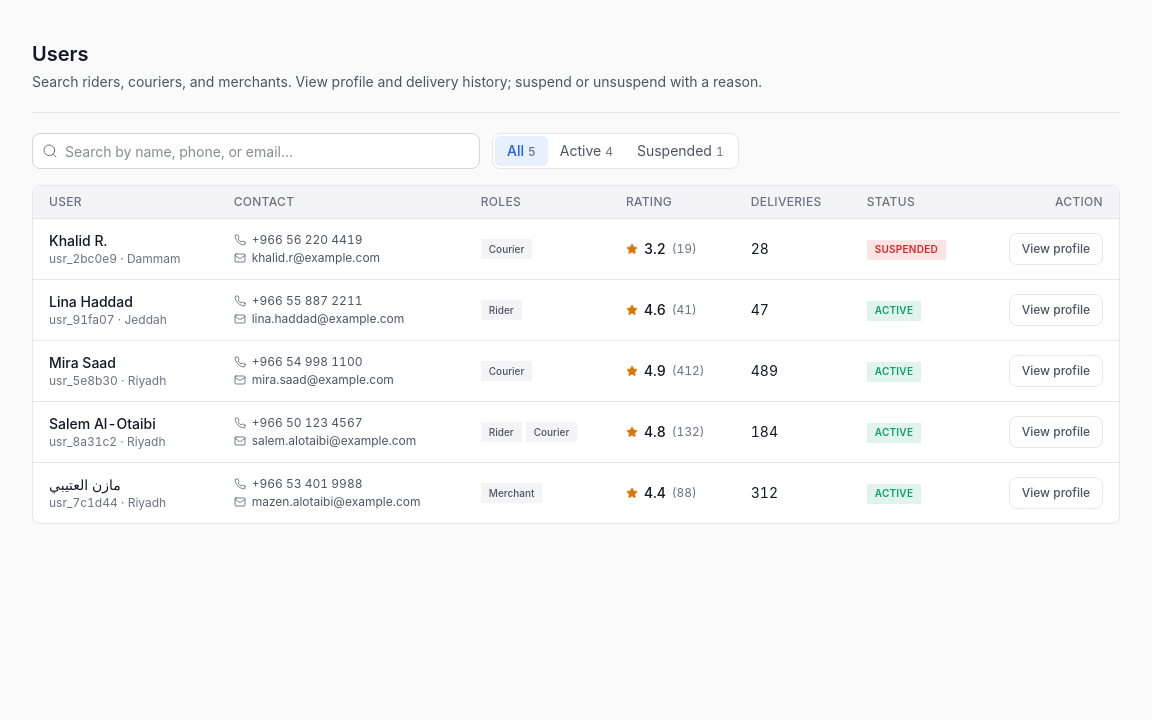
Scenario: <UsersAdminPage /> › opens the profile drawer with delivery history
Click the button named "view profile for salem al-otaibi" at [1056, 432], box top-left (1009, 416), bottom-right (1103, 448)
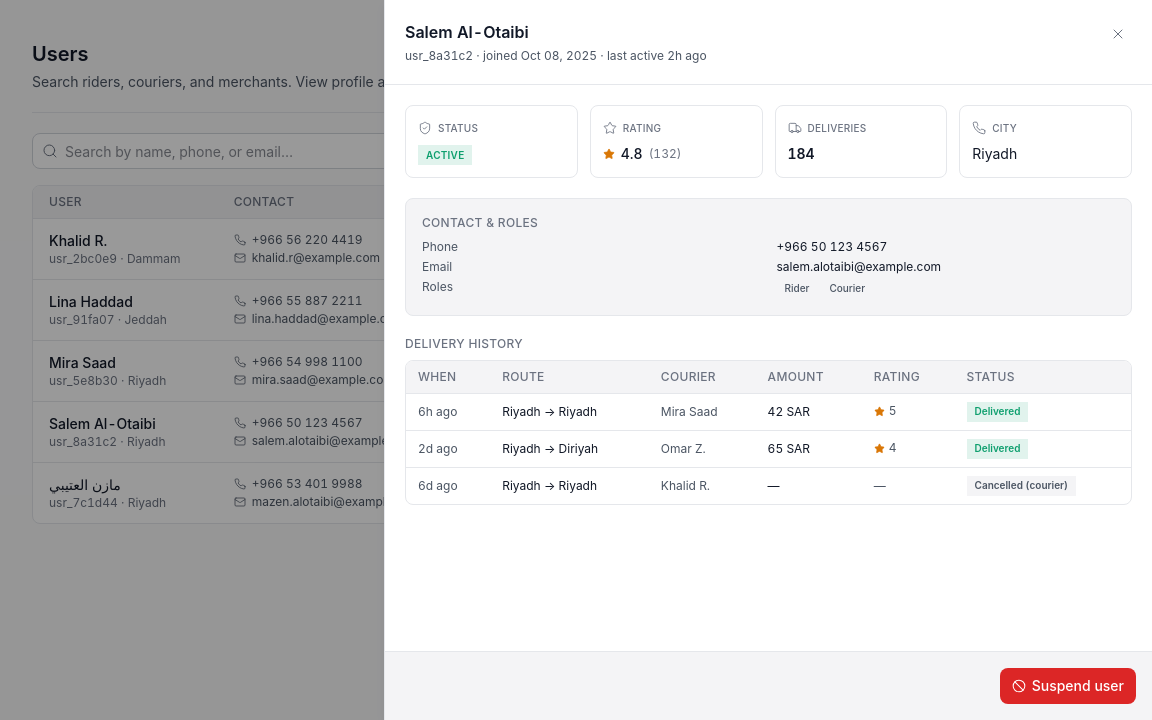
Result: the heading "Delivery history" is shown at top-left (405, 336), bottom-right (523, 351)
Result: the text "Riyadh → Diriyah" is shown at top-left (490, 430), bottom-right (649, 468)
Result: the text "Delivered" in the row of "6h ago" is shown at top-left (974, 405), bottom-right (1020, 417)
